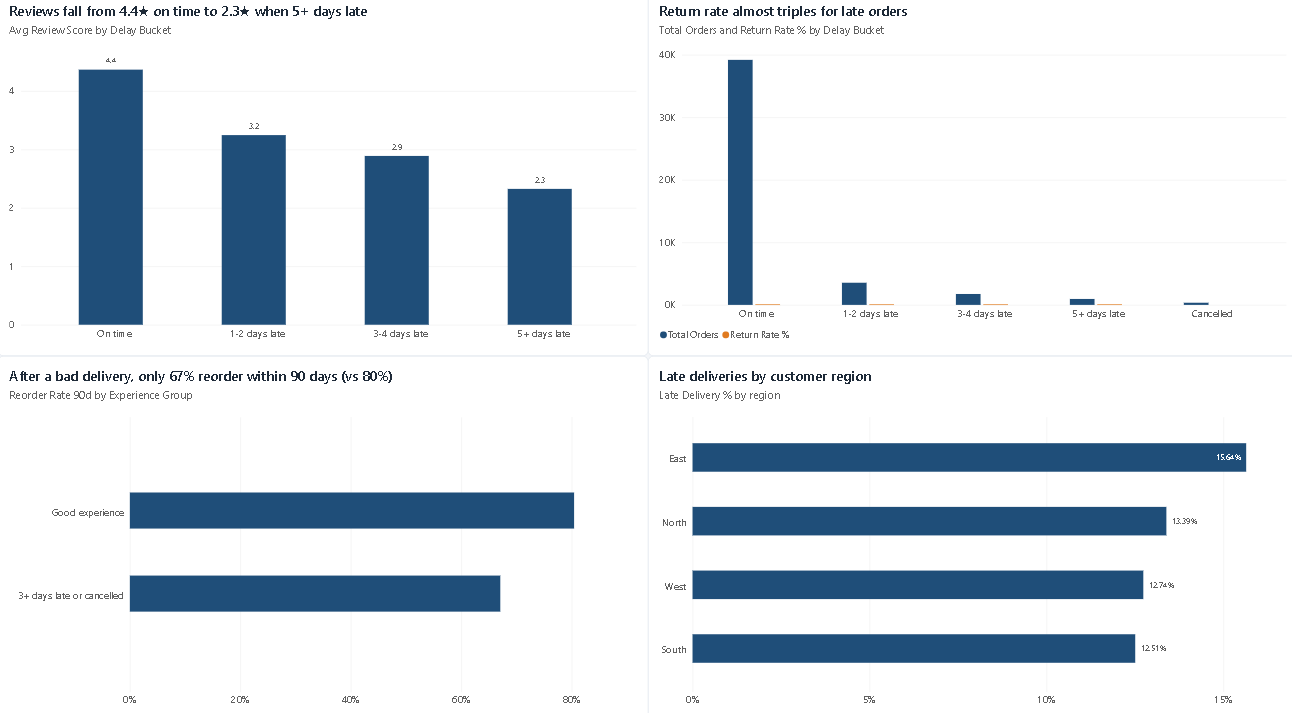

What the dashboard file says about the page in this screenshot:
{"tool":"powerbi","page":{"name":"Customers","canvas":[1920,1080],"ordinal":4},"visuals":[{"type":"clusteredColumnChart","title":"Reviews fall from 4.4★ on time to 2.3★ when 5+ days late","fields":{"Category":["Orders.Delay Bucket"],"Y":["_Measures.Avg Review Score"]},"box":[0,0,960.4,539.3],"z":0},{"type":"lineClusteredColumnComboChart","title":"Return rate almost triples for late orders","fields":{"Category":["Orders.Delay Bucket"],"Y":["_Measures.Total Orders","_Measures.Return Rate %"]},"box":[960.4,0,960.4,539.3],"z":1},{"type":"clusteredBarChart","title":"After a bad delivery, only 67% reorder within 90 days (vs 80%)","fields":{"Category":["Orders.Experience Group"],"Y":["_Measures.Reorder Rate 90d"]},"box":[0,539.3,960.4,541.5],"z":2},{"type":"clusteredBarChart","title":"     Late deliveries by customer region","fields":{"Category":["Customers.region"],"Y":["_Measures.Late Delivery %"]},"box":[960,539,960,541],"z":3}]}

Visuals, with their boxes in screenshot pixels (x1, y1, x2, y2), scaled from the page's 1920x1080 canvas onto the 1292x713 screenshot:
"Reviews fall from 4.4★ on time to 2.3★ when 5+ days late" clusteredColumnChart: rect(0, 0, 646, 356)
"Return rate almost triples for late orders" lineClusteredColumnComboChart: rect(646, 0, 1291, 356)
"After a bad delivery, only 67% reorder within 90 days (vs 80%)" clusteredBarChart: rect(0, 356, 646, 712)
"     Late deliveries by customer region" clusteredBarChart: rect(646, 356, 1291, 712)
